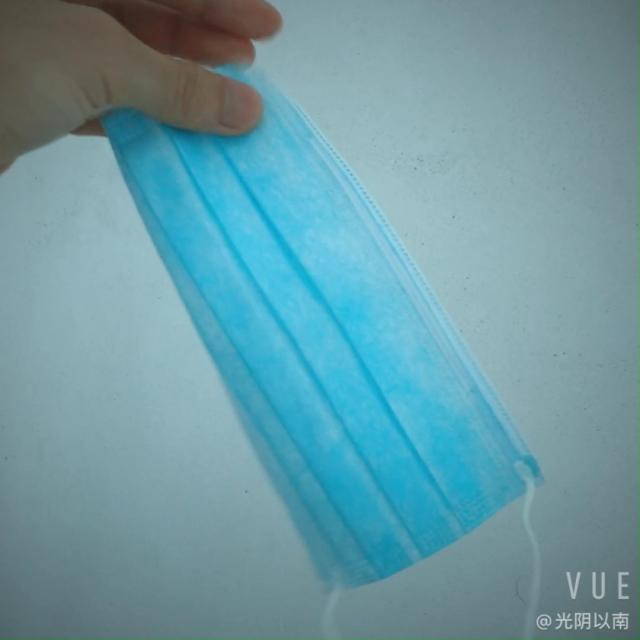non-organic waste: (119, 51, 518, 592)
